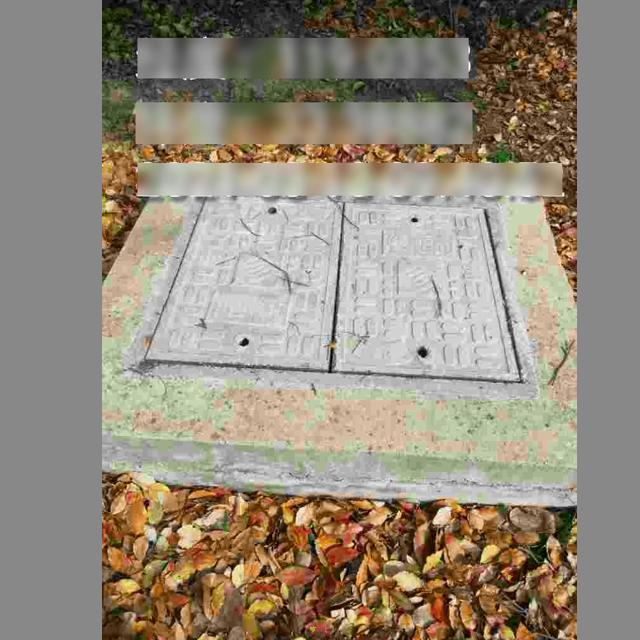good: (125, 186, 539, 394)
